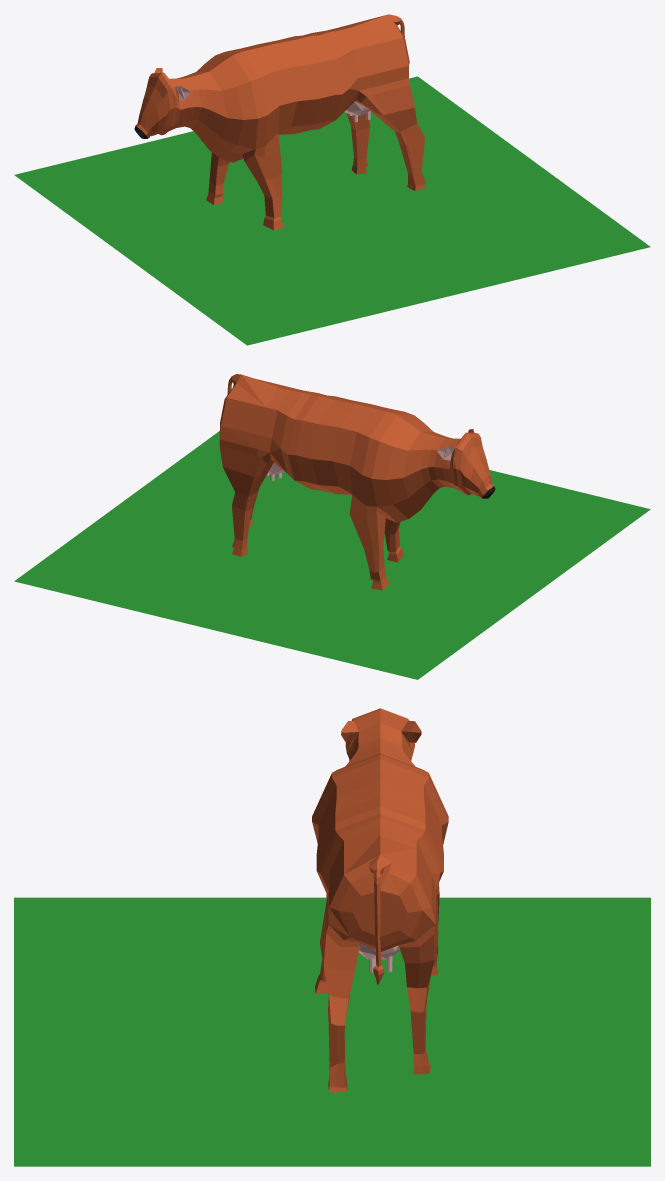
The model's file is cow.glb.
The picture shows the model from 3 angles, top to bottom: view 1: azimuth 30°, elevation 25°; view 2: azimuth 150°, elevation 25°; view 3: azimuth 270°, elevation 25°; orthographic projection. The views are drawn at different scales.
Visible parts, largest first — view 1: Piano, mucca; view 2: Piano, mucca; view 3: Piano, mucca.
Boxes of the visible parts, x1,y1,x2,y2 form: Piano: (14,76,650,345); mucca: (134,14,425,230); Piano: (14,431,650,679); mucca: (219,374,495,590); Piano: (14,897,650,1166); mucca: (312,708,448,1092).
Size of the model in its own units: 14.67 by 5.76 by 14.67.
